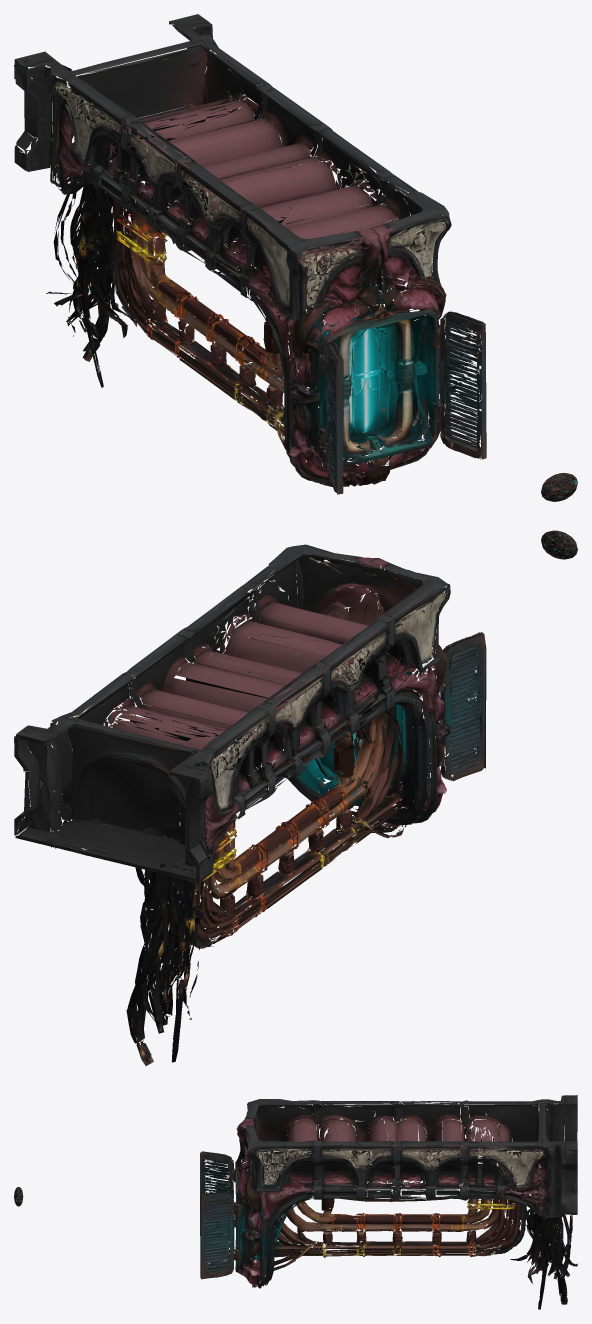
The model's file is meridian_grid_restored_bus_crown.glb.
The picture shows the model from 3 angles, top to bottom: view 1: azimuth 30°, elevation 25°; view 2: azimuth 150°, elevation 25°; view 3: azimuth 270°, elevation 25°; orthographic projection. The views are drawn at different scales.
Parts seen in each view (by area): view 1: node_0, HB_PULSE_00; view 2: node_0, HB_PULSE_00; view 3: node_0.
Boxes of the visible parts, left/top/right/bottom form: node_0: left=14, top=14, right=486, bottom=494; HB_PULSE_00: left=541, top=473, right=577, bottom=501; node_0: left=14, top=544, right=486, bottom=1065; HB_PULSE_00: left=541, top=530, right=577, bottom=559; node_0: left=200, top=1095, right=577, bottom=1309.
Bounding box in the file's own units: 0.3526 × 0.5792 × 1.49.
Materials: 1 (1 with a texture image).
